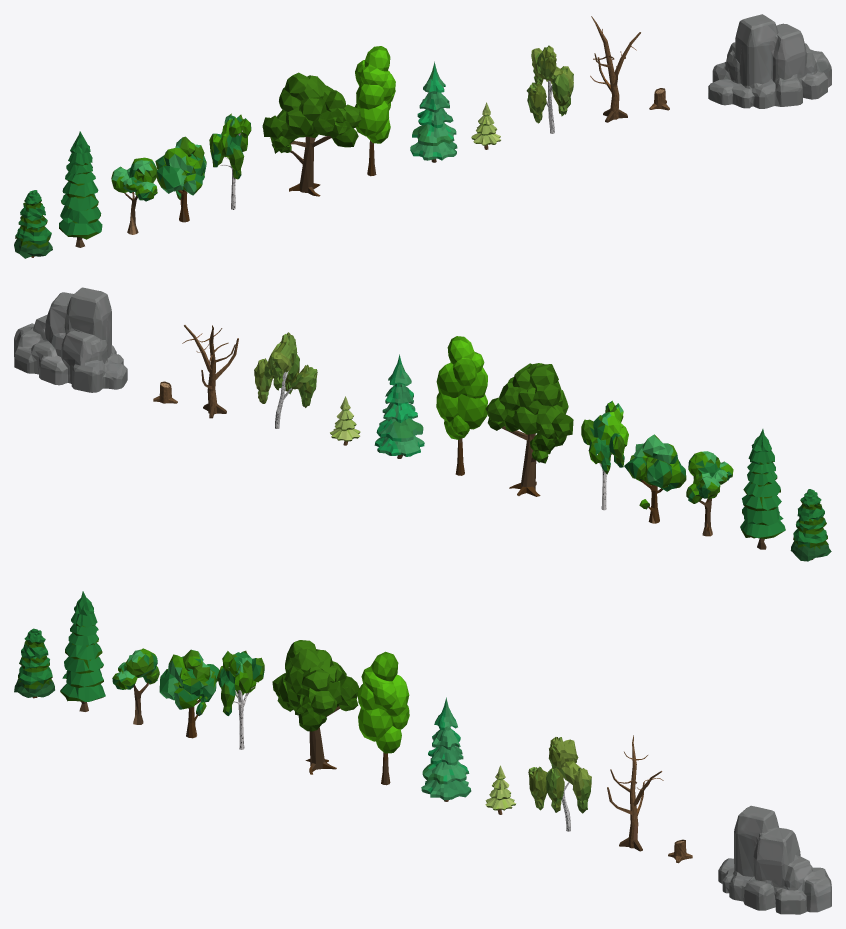
The model's file is treeX14.obj.
3 views of the same model, one above another, from view 1: azimuth 30°, elevation 25°; view 2: azimuth 150°, elevation 25°; view 3: azimuth 330°, elevation 25° (orthographic). The views are drawn at different scales.
Parts seen in each view (by area): view 1: Rock_1__Cube.005, _6_tree_Cube.003, _7_tree_Icosphere.042, _2_tree_Cylinder.002, _8_tree_Cube.007, _4_tree_Icosphere.043, _10_tree_Cylinder.003, _5_tree_Sphere.006, _1_tree_Cone.019, _3_tree_Sphere.007, _11_tree_Cylinder.004, _9_tree_Cube.006; view 2: Rock_1__Cube.005, _6_tree_Cube.003, _7_tree_Icosphere.042, _2_tree_Cylinder.002, _8_tree_Cube.007, _10_tree_Cylinder.003, _4_tree_Icosphere.043, _5_tree_Sphere.006, _3_tree_Sphere.007, _1_tree_Cone.019, _11_tree_Cylinder.004, _9_tree_Cube.006; view 3: Rock_1__Cube.005, _6_tree_Cube.003, _7_tree_Icosphere.042, _2_tree_Cylinder.002, _10_tree_Cylinder.003, _8_tree_Cube.007, _4_tree_Icosphere.043, _5_tree_Sphere.006, _1_tree_Cone.019, _3_tree_Sphere.007, _11_tree_Cylinder.004, _9_tree_Cube.006.
Boxes of the visible parts, x1,y1,x2,y2 form: Rock_1__Cube.005: (708, 14, 831, 108); _6_tree_Cube.003: (262, 72, 361, 196); _7_tree_Icosphere.042: (355, 46, 395, 176); _2_tree_Cylinder.002: (59, 131, 102, 247); _8_tree_Cube.007: (410, 61, 457, 162); _4_tree_Icosphere.043: (155, 136, 206, 222); _10_tree_Cylinder.003: (526, 45, 573, 133); _5_tree_Sphere.006: (209, 113, 251, 209); _1_tree_Cone.019: (14, 190, 52, 258); _3_tree_Sphere.007: (111, 157, 157, 234); _11_tree_Cylinder.004: (590, 16, 640, 122); _9_tree_Cube.006: (471, 102, 500, 149); Rock_1__Cube.005: (14, 287, 127, 392); _6_tree_Cube.003: (485, 363, 573, 496); _7_tree_Icosphere.042: (436, 336, 487, 475); _2_tree_Cylinder.002: (740, 429, 785, 549); _8_tree_Cube.007: (374, 354, 424, 458); _10_tree_Cylinder.003: (254, 332, 317, 428); _4_tree_Icosphere.043: (624, 434, 686, 523); _5_tree_Sphere.006: (581, 400, 628, 510); _3_tree_Sphere.007: (686, 451, 733, 536); _1_tree_Cone.019: (790, 489, 831, 561); _11_tree_Cylinder.004: (182, 325, 238, 418); _9_tree_Cube.006: (330, 396, 360, 445); Rock_1__Cube.005: (718, 805, 831, 914); _6_tree_Cube.003: (272, 640, 359, 774); _7_tree_Icosphere.042: (358, 651, 409, 785); _2_tree_Cylinder.002: (60, 591, 105, 711); _10_tree_Cylinder.003: (528, 737, 591, 831); _8_tree_Cube.007: (421, 697, 471, 801); _4_tree_Icosphere.043: (159, 649, 219, 738); _5_tree_Sphere.006: (217, 650, 264, 749); _1_tree_Cone.019: (14, 628, 54, 698); _3_tree_Sphere.007: (112, 648, 159, 724); _11_tree_Cylinder.004: (607, 735, 663, 851); _9_tree_Cube.006: (485, 765, 515, 814).
Size of the model in its own units: 17.98 by 2.82 by 1.79.
Materials: 13 (13 with a texture image).
